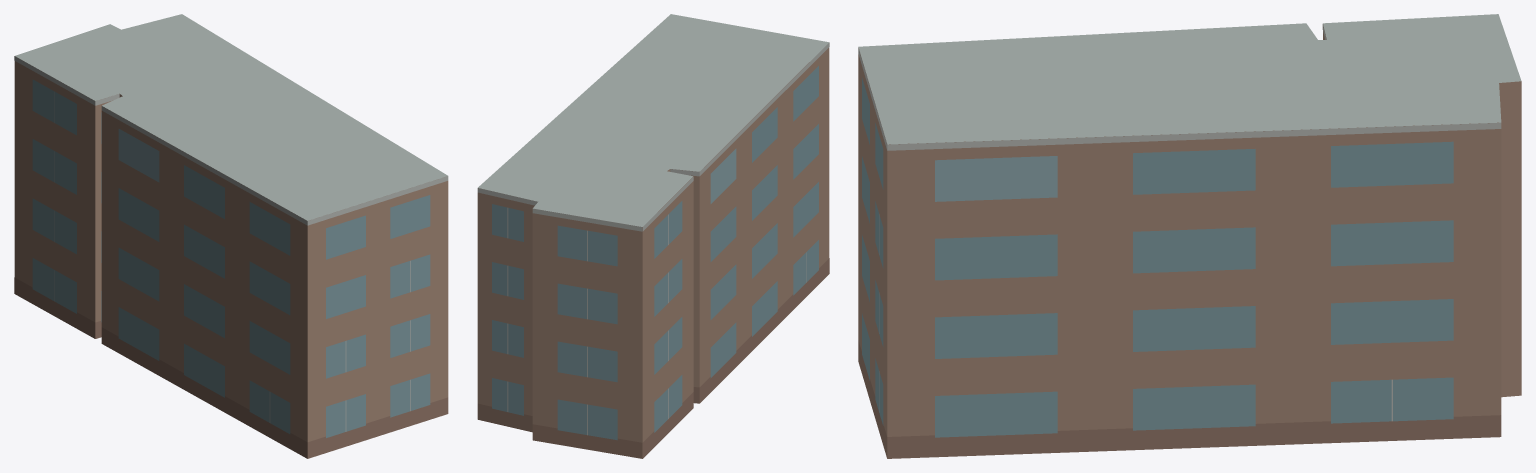
Rendered from survey-upis-32918808.glb.
3 renders of one model, left to right at view 1: azimuth 30°, elevation 25°; view 2: azimuth 150°, elevation 25°; view 3: azimuth 270°, elevation 25°, orthographic. The views are drawn at different scales.
Parts seen in each view (by area): view 1: survey-upis-32918808.tmp; view 2: survey-upis-32918808.tmp; view 3: survey-upis-32918808.tmp.
Boxes of the visible parts, x1,y1,x2,y2 form: survey-upis-32918808.tmp: [14, 14, 448, 458]; survey-upis-32918808.tmp: [477, 14, 829, 458]; survey-upis-32918808.tmp: [858, 14, 1521, 458].
Bounding box in the file's own units: 10.87 × 12.2 × 23.34.
